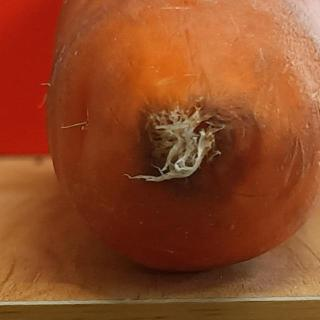carrot: (43, 0, 320, 277)
